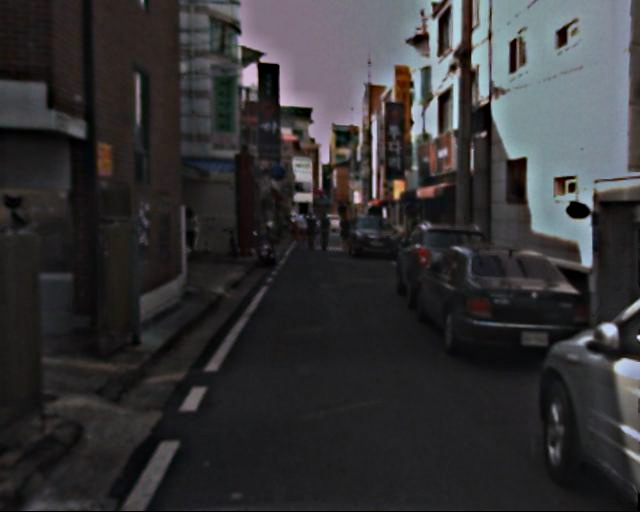person: (179, 205, 201, 258), (318, 213, 335, 254), (304, 213, 320, 252), (338, 215, 354, 253)
